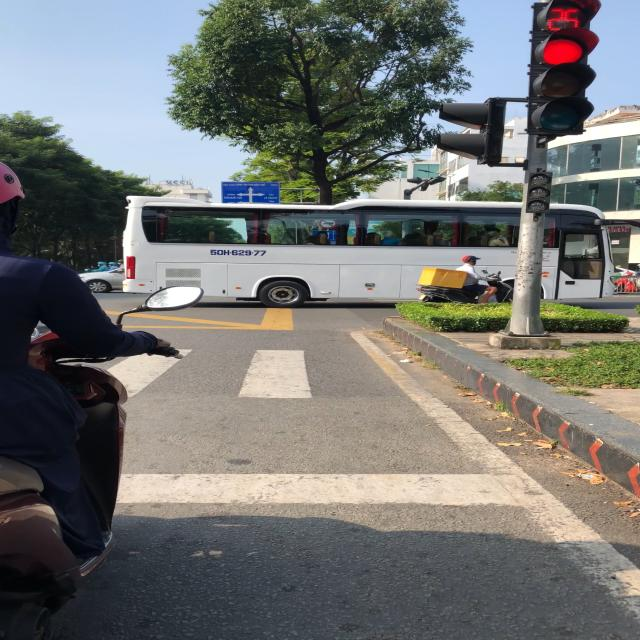Bien bao cam xe so-mi ro-mooc: (316, 219, 341, 229)
